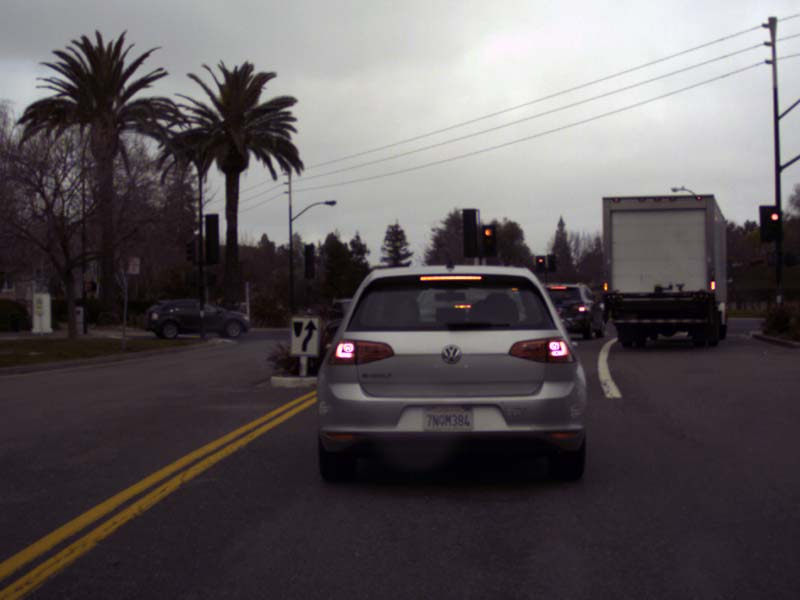Green: (546, 254, 556, 270)
Red: (482, 225, 496, 257), (769, 211, 782, 238), (536, 255, 546, 271)
